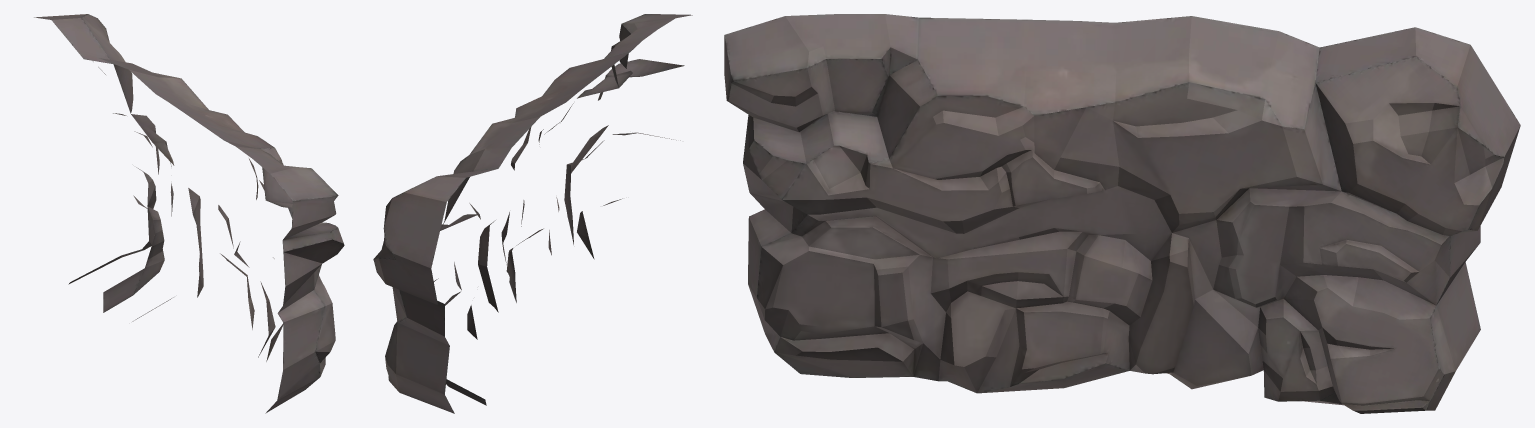
3 views of the same model, side by side, from view 1: azimuth 30°, elevation 25°; view 2: azimuth 150°, elevation 25°; view 3: azimuth 270°, elevation 25° (orthographic). The views are drawn at different scales.
Visible parts, largest first — view 1: body0_model0_lod0_mesh0; view 2: body0_model0_lod0_mesh0; view 3: body0_model0_lod0_mesh0.
Boxes of the visible parts, left/top/right/bottom form: body0_model0_lod0_mesh0: left=34, top=14, right=344, bottom=413; body0_model0_lod0_mesh0: left=373, top=14, right=692, bottom=413; body0_model0_lod0_mesh0: left=724, top=14, right=1520, bottom=413.
Size of the model in its own units: 256 by 775 by 1476.
Materials: 1 (1 with a texture image).
